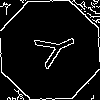Y: (25, 25, 81, 74)
